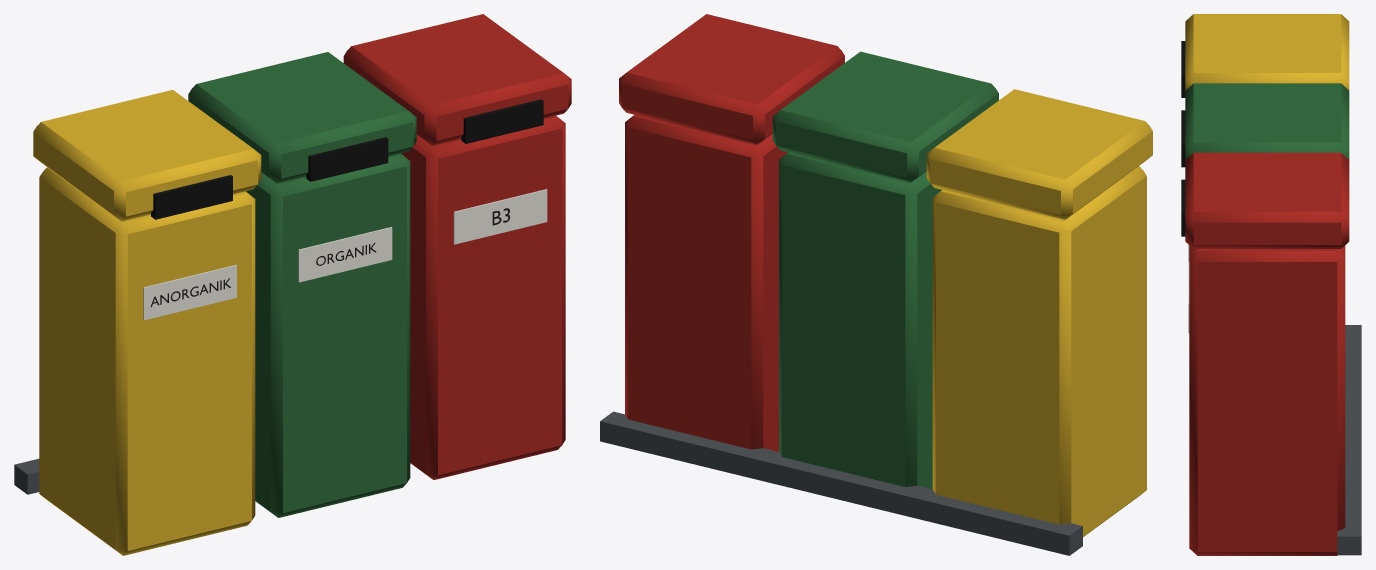
Rendered from recycle_bins.glb.
The picture shows the model from 3 angles, left to right: view 1: azimuth 30°, elevation 25°; view 2: azimuth 150°, elevation 25°; view 3: azimuth 270°, elevation 25°; orthographic projection. The views are drawn at different scales.
Visible parts, largest first — view 1: Bins; view 2: Bins; view 3: Bins.
Part boxes in pixels (box(x1,y1,x2,y2)): Bins: box(14, 14, 571, 555); Bins: box(600, 14, 1152, 555); Bins: box(1181, 14, 1361, 555).
Bounding box in the file's own units: 1.22 × 0.93 × 0.44.
